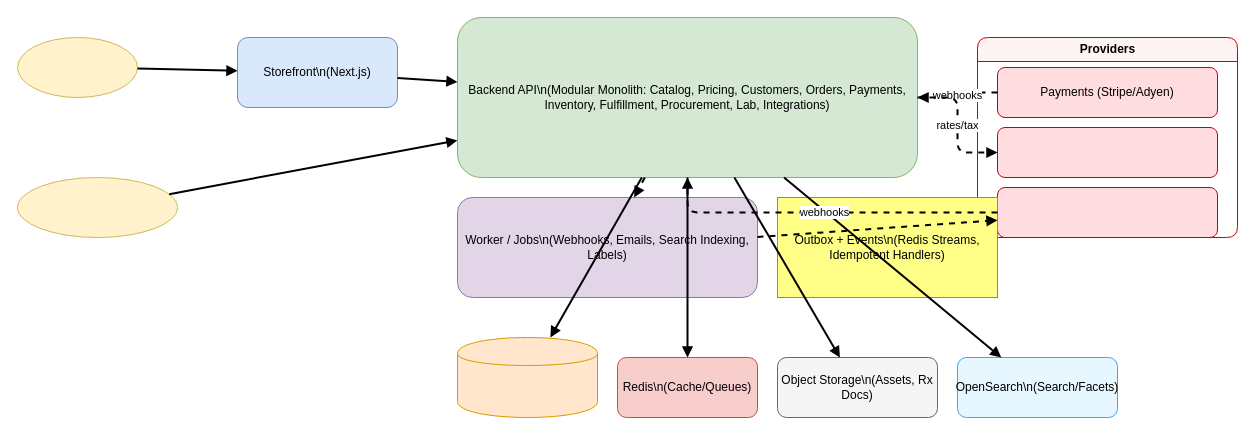
Some shapes in this 1255 by 435 pixel diagram are drawn without their labels. The box of each missing label's shape, as (x1, y1, x2, y2) in pixels:
Admin / Backoffice: (16, 176, 178, 238)
Customer: (16, 36, 138, 98)
PostgreSQL\n(OLTP): (456, 336, 598, 418)
Shipping (Shippo/EasyPost): (996, 186, 1218, 238)
Tax (Avalara/TaxJar): (996, 126, 1218, 178)
